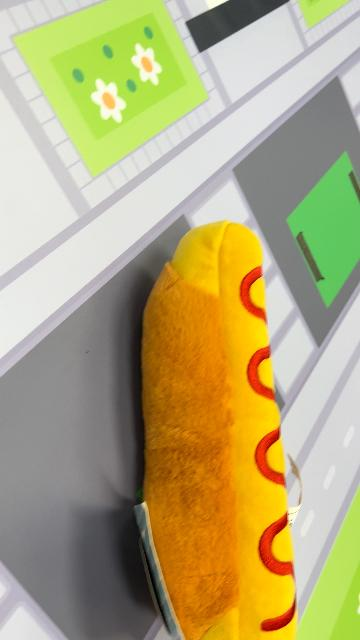hotdog: (138, 220, 300, 638)
